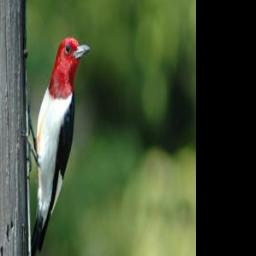Woodpecker: (18, 35, 92, 256)
